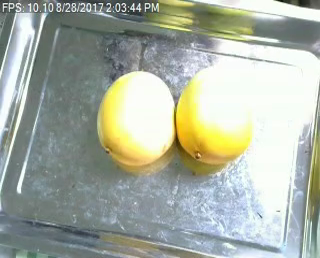Mango: (172, 63, 256, 167), (95, 65, 177, 165)
